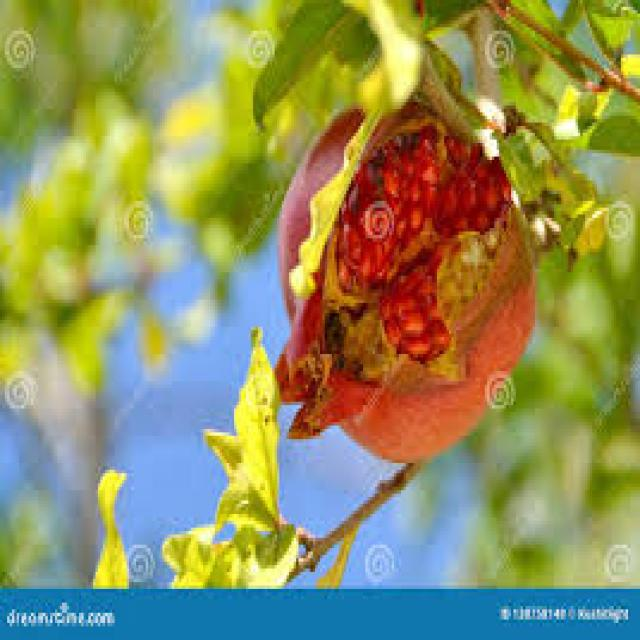overripe: (272, 95, 539, 462)
